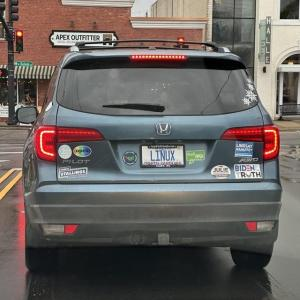Plate: (139, 144, 187, 168)
